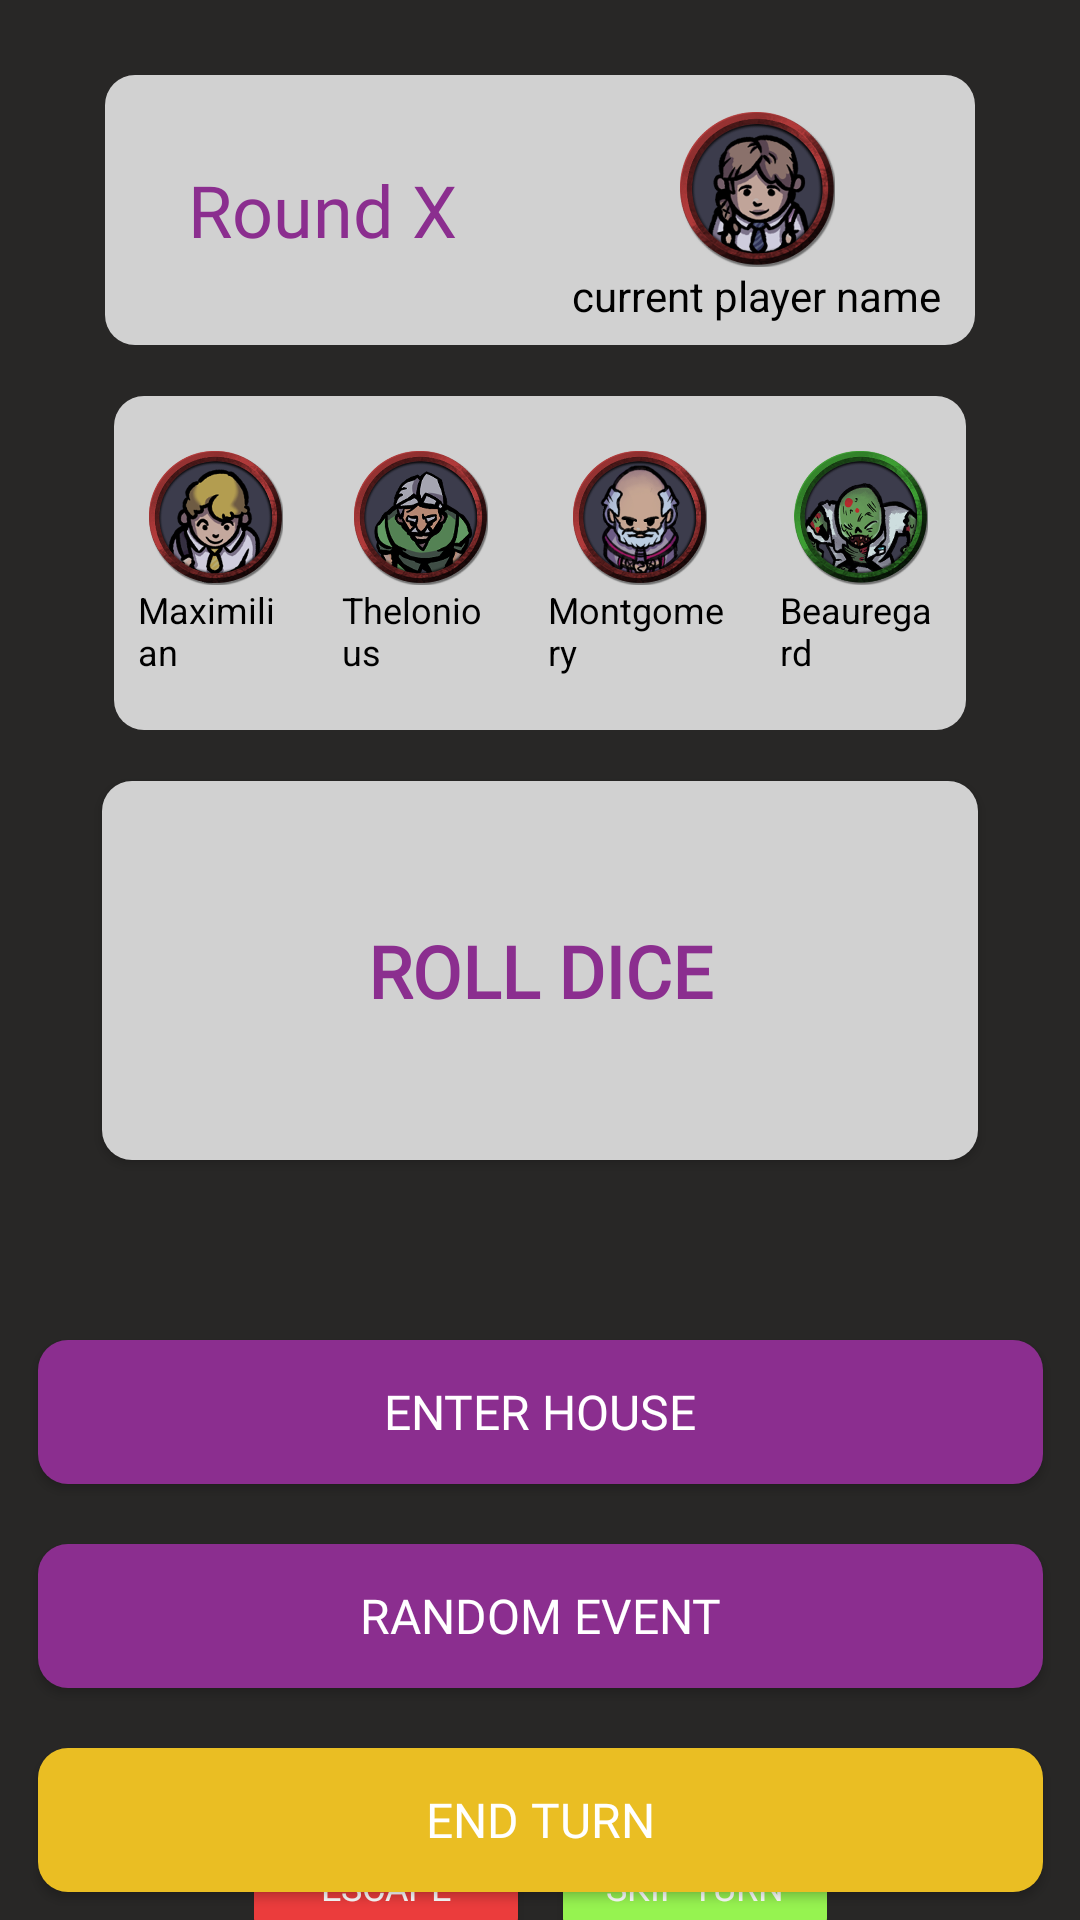

Locate icon controls on the screen. Image size 1080w x 1920h, boxes as rect(x1, y1, x2, y2).
survivor: rect(680, 112, 835, 267)
